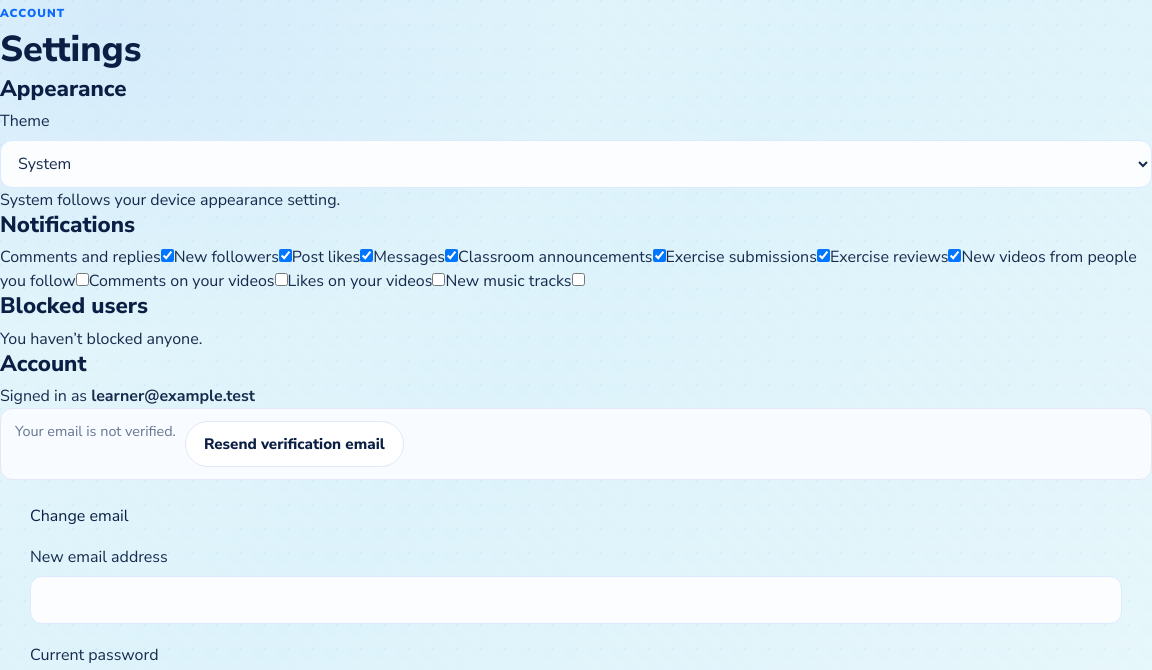
Test: SettingsPage › loads and saves notification preferences
Expected: the checkbox named "Toggle new followers notifications" is checked, [279, 250, 292, 262]
Expected: the text "Your email is not verified. Resend verification email" is shown, [0, 408, 1151, 480]
Click the button "Resend verification email": x=294, y=444 [185, 421, 404, 467]
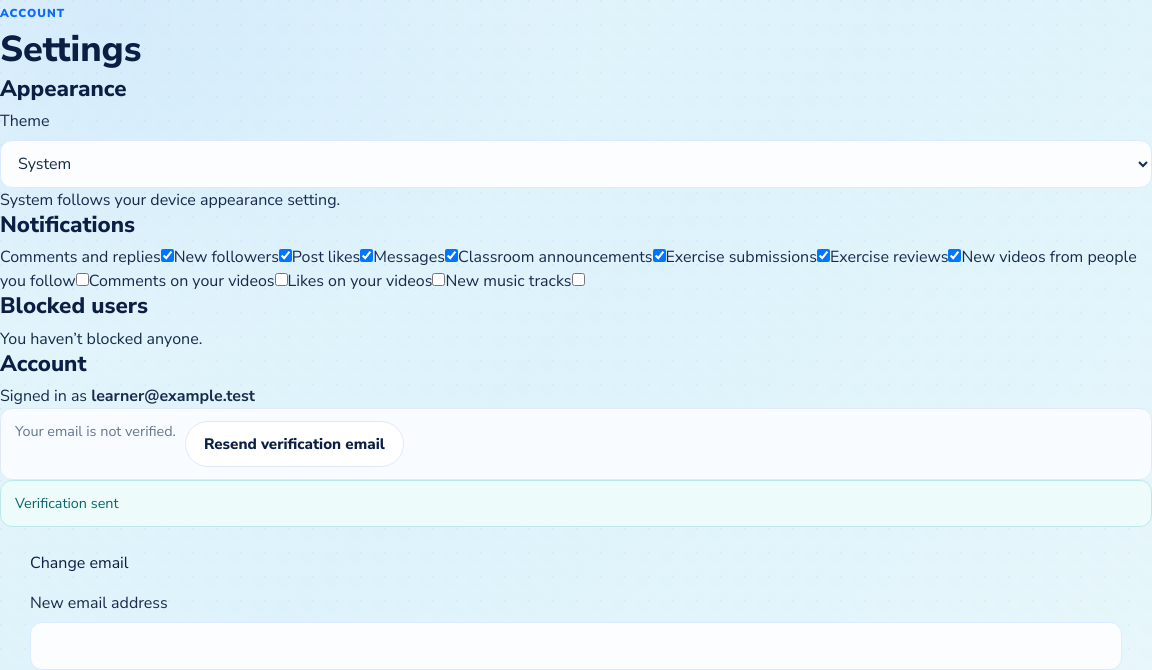
Click the checkbox named "Toggle new followers notifications": x=285, y=256 [279, 250, 292, 262]
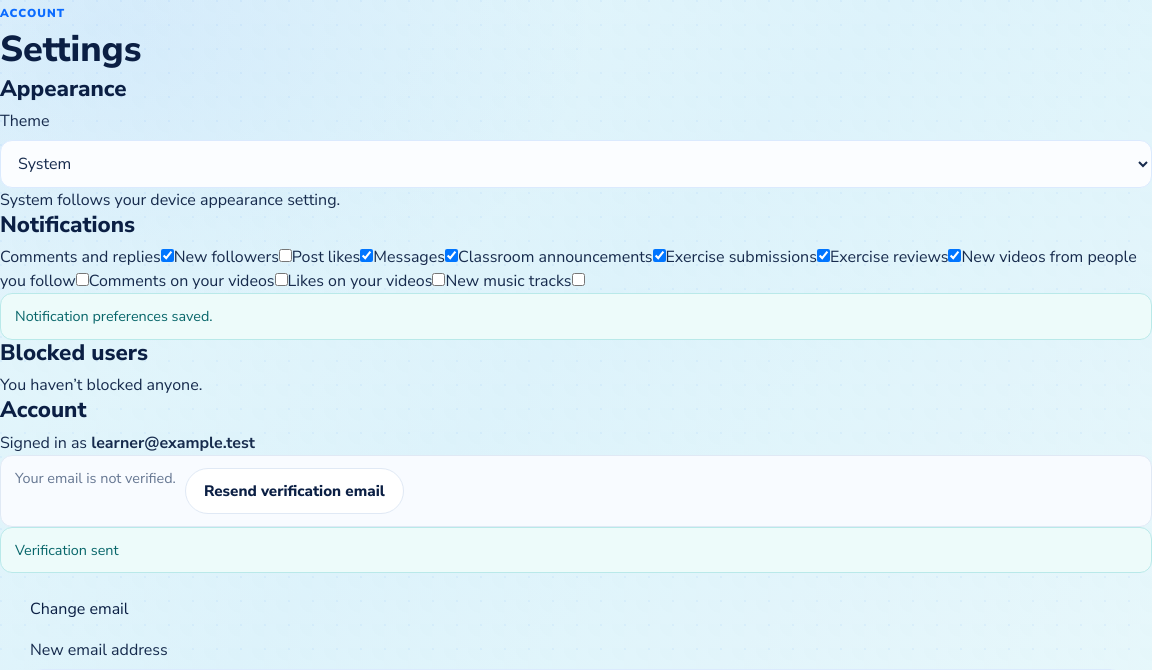
Now the checkbox named "Toggle new followers notifications" is not checked, box [279, 250, 292, 262]
Now the text "Notification preferences saved." is shown, box [0, 294, 1151, 340]
